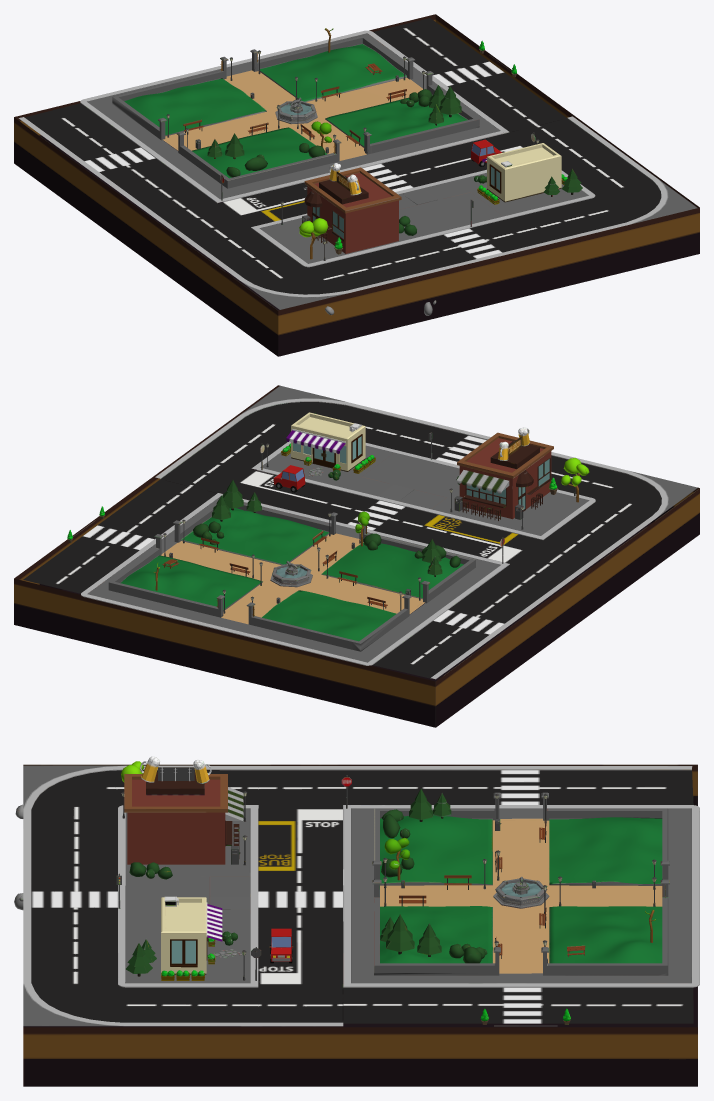
File: ciudad.fbx
3 renders of one model, top to bottom at view 1: azimuth 30°, elevation 25°; view 2: azimuth 150°, elevation 25°; view 3: azimuth 270°, elevation 25°, orthographic. The views are drawn at different scales.
Parts seen in each view (by area): view 1: struttura_TEXTURE_0.001; view 2: struttura_TEXTURE_0.001; view 3: struttura_TEXTURE_0.001.
Part boxes in pixels (x1,y1,x2,y2): struttura_TEXTURE_0.001: [14, 14, 699, 356]; struttura_TEXTURE_0.001: [14, 385, 699, 727]; struttura_TEXTURE_0.001: [14, 756, 699, 1086].
Bounding box in the file's own units: 18157 × 4664 × 20033.
